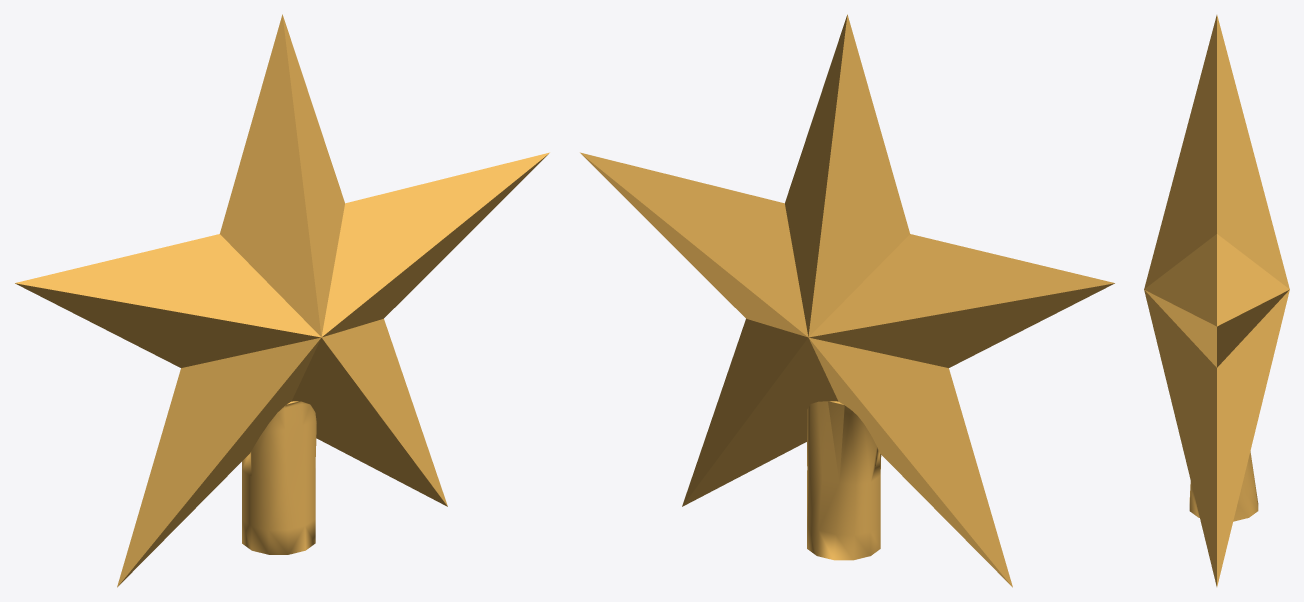
Rendered from star.fbx.
3 renders of one model, left to right at view 1: azimuth 30°, elevation 25°; view 2: azimuth 150°, elevation 25°; view 3: azimuth 270°, elevation 25°, orthographic. The views are drawn at different scales.
Parts seen in each view (by area): view 1: star; view 2: star; view 3: star.
Boxes of the visible parts, x1=… form: star: x1=15, y1=14, x2=549, y2=587; star: x1=580, y1=14, x2=1114, y2=587; star: x1=1144, y1=15, x2=1289, y2=586.
Bounding box in the file's own units: 73.17 × 69.59 × 18.46.
